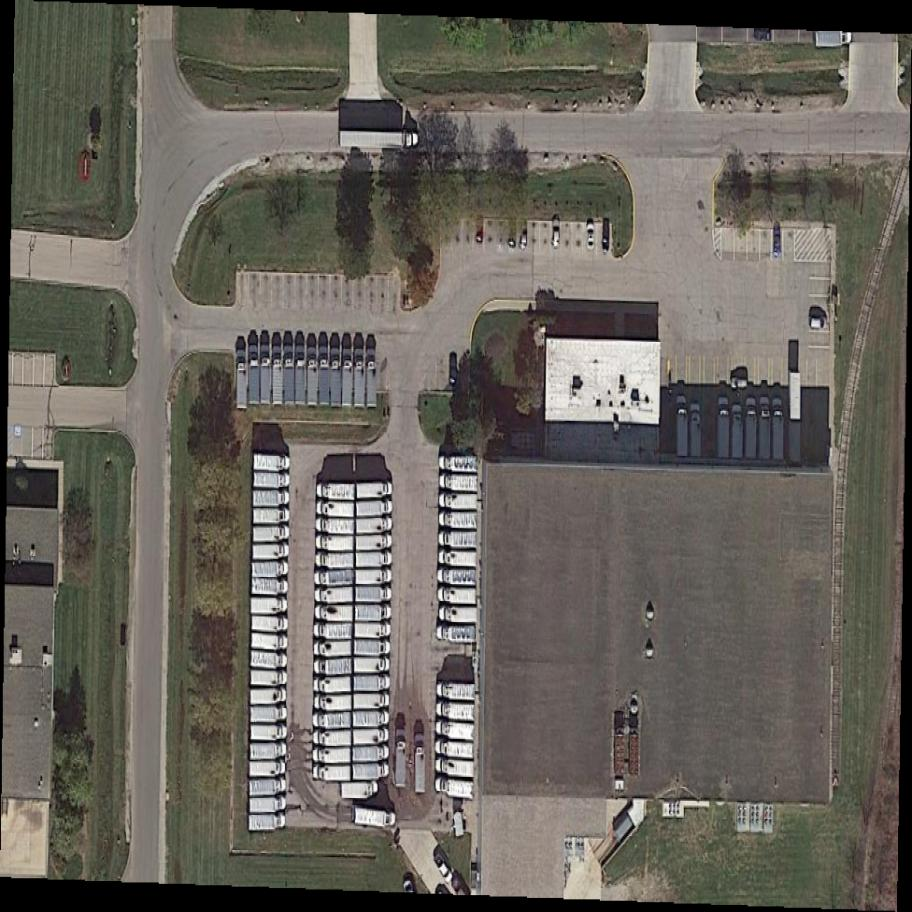large-vehicle: (341, 132, 419, 151), (791, 373, 804, 467), (433, 777, 477, 802), (354, 806, 397, 830), (248, 775, 287, 798), (354, 581, 392, 604), (316, 587, 357, 608), (718, 395, 731, 460), (438, 569, 478, 590), (436, 722, 478, 742), (353, 638, 391, 660), (249, 795, 288, 816), (438, 586, 477, 607), (341, 780, 378, 802), (261, 343, 274, 405), (677, 397, 690, 459), (248, 812, 286, 833), (355, 567, 393, 588), (414, 735, 427, 795), (250, 759, 287, 780), (353, 728, 390, 749), (354, 692, 389, 714), (317, 483, 357, 502), (357, 551, 395, 571), (436, 740, 474, 760), (330, 346, 342, 408), (249, 688, 288, 707), (315, 659, 354, 678), (690, 403, 703, 460), (439, 455, 478, 474), (317, 500, 356, 519), (249, 743, 286, 763), (356, 498, 393, 518), (353, 674, 390, 694), (436, 760, 477, 778), (254, 543, 289, 564), (250, 669, 288, 688), (439, 626, 477, 645), (313, 766, 353, 784), (354, 350, 366, 410), (438, 704, 478, 722), (249, 346, 261, 405), (236, 352, 248, 411), (747, 398, 758, 462), (441, 474, 478, 493), (357, 533, 394, 552), (248, 708, 287, 726), (314, 676, 353, 694), (352, 763, 391, 781), (254, 470, 289, 490), (315, 714, 353, 732), (733, 403, 745, 460), (254, 453, 290, 472), (317, 552, 355, 570), (439, 549, 477, 567), (353, 745, 389, 764), (367, 348, 378, 410), (761, 400, 772, 462), (295, 346, 306, 407), (318, 517, 355, 535), (254, 526, 289, 545), (317, 535, 356, 552), (439, 514, 478, 531), (316, 570, 355, 587), (307, 349, 318, 408), (342, 349, 353, 408), (253, 507, 289, 525), (252, 598, 288, 616), (357, 517, 393, 535), (249, 653, 287, 670), (250, 725, 288, 742), (315, 694, 353, 711), (252, 633, 286, 652), (440, 608, 478, 625), (440, 495, 478, 512), (356, 657, 390, 676), (774, 398, 784, 462), (251, 614, 286, 632), (253, 577, 288, 595), (315, 749, 352, 766), (315, 640, 352, 657), (316, 623, 353, 640), (317, 605, 354, 622), (441, 532, 478, 549), (355, 622, 392, 639), (273, 346, 283, 408), (283, 346, 293, 408), (254, 491, 289, 508), (253, 560, 288, 577), (357, 483, 392, 500), (356, 605, 391, 622), (396, 729, 406, 788), (319, 348, 329, 407), (313, 732, 352, 747), (438, 684, 477, 699), (354, 714, 388, 730)
small-vehicle: (431, 854, 459, 887), (600, 218, 612, 256), (449, 350, 460, 387), (806, 314, 827, 332), (773, 224, 783, 259), (731, 374, 748, 393), (552, 219, 562, 251), (519, 220, 529, 252), (508, 221, 518, 252), (475, 220, 485, 251), (587, 224, 595, 253)
